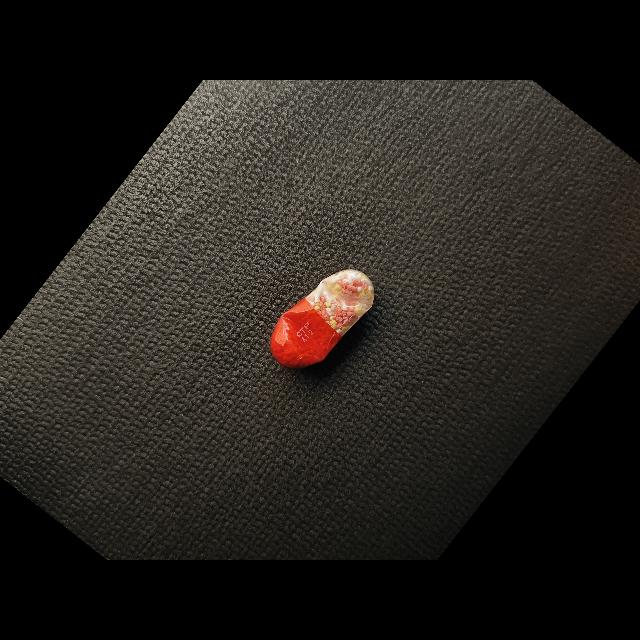Defective Capsule: (270, 269, 375, 368)
